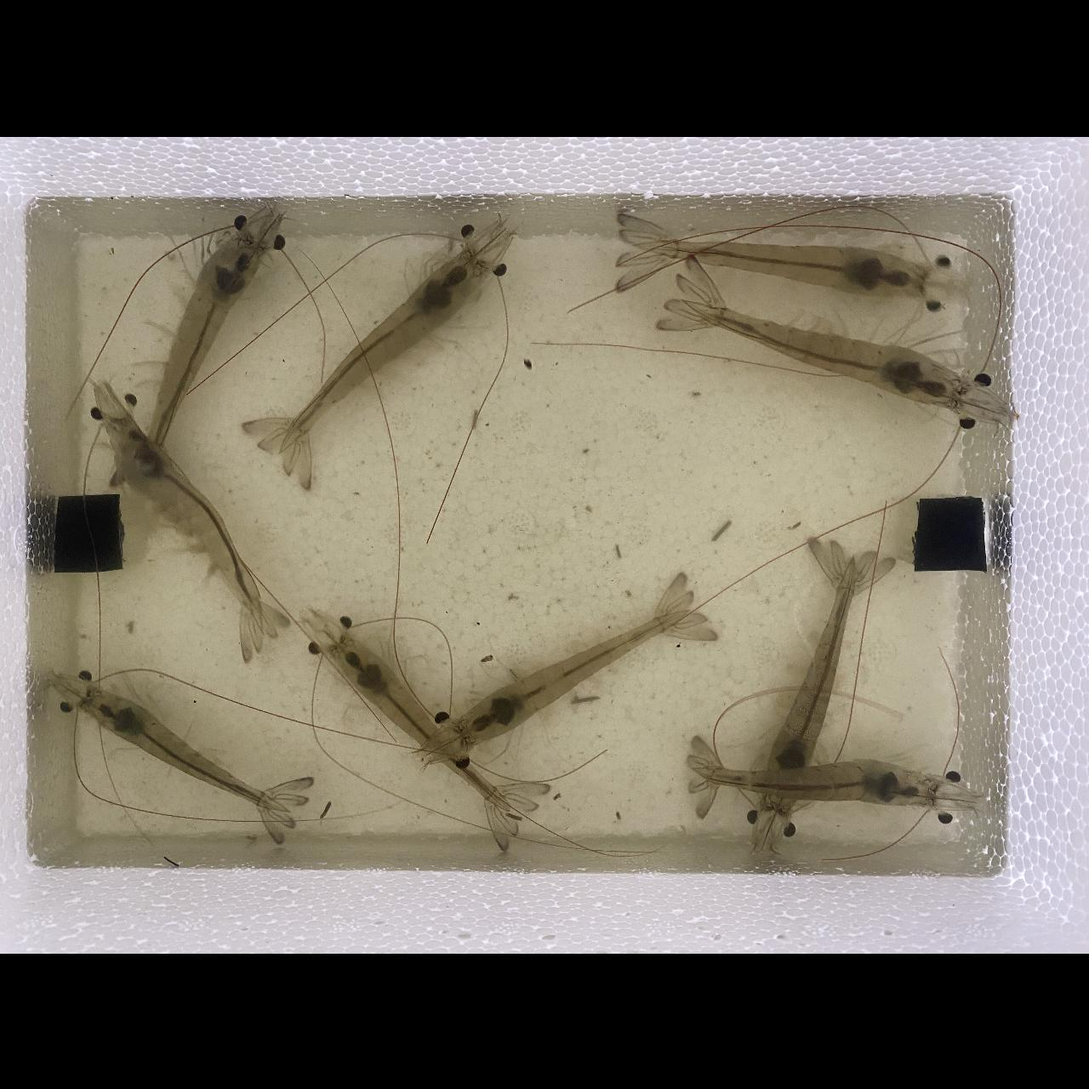box: (914, 499, 989, 570), (54, 495, 123, 570)
top_shrimp: (282, 254, 483, 449), (116, 419, 269, 626), (335, 641, 516, 813), (463, 609, 691, 744), (682, 303, 963, 405), (148, 240, 262, 464), (760, 556, 857, 807), (87, 693, 284, 810), (640, 243, 926, 296), (689, 761, 934, 805)
